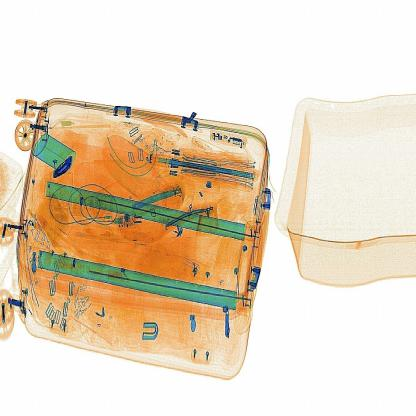knife: (52, 153, 75, 180)
